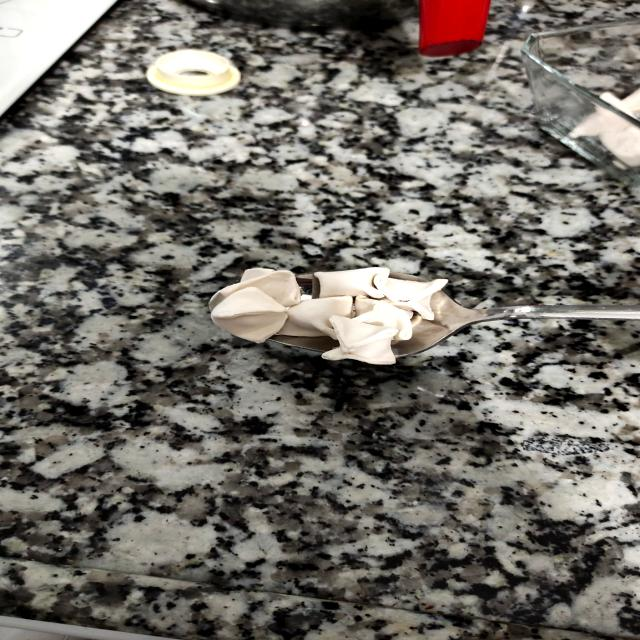turkish dumplings: (188, 230, 512, 374)
